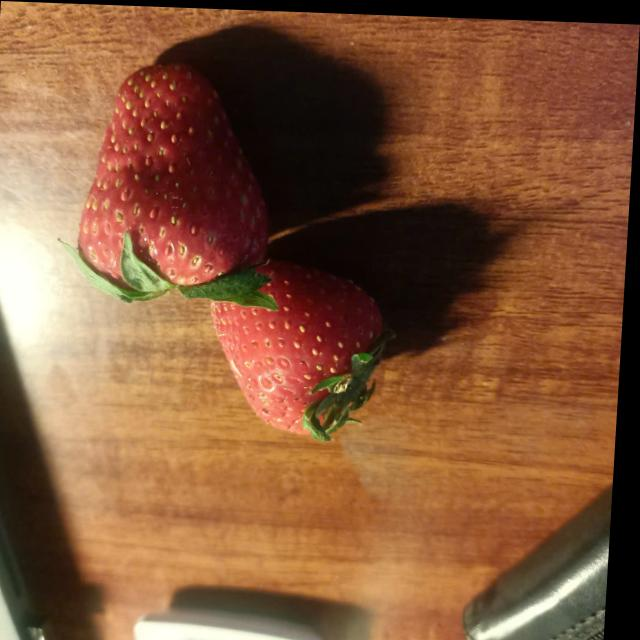DauTay: (73, 57, 274, 294), (207, 249, 395, 439)
